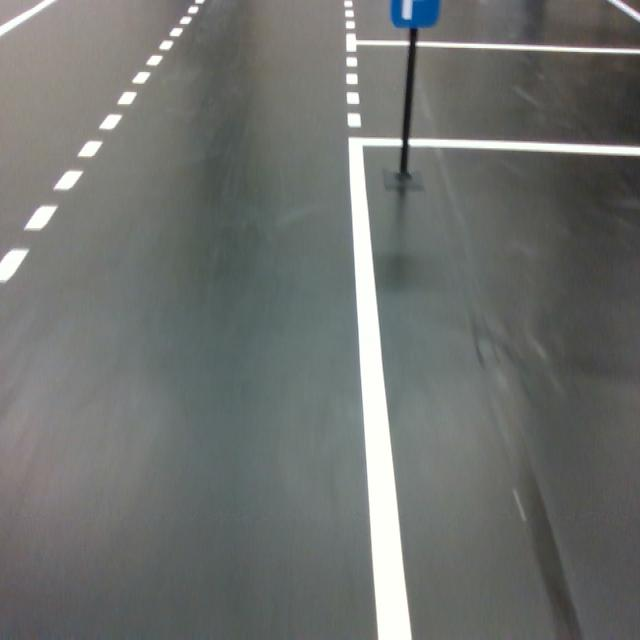parking-sign: (390, 0, 441, 28)
